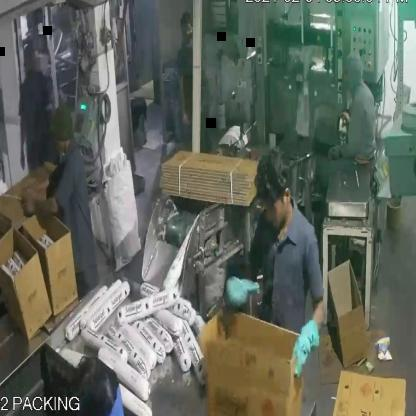glove: (292, 304, 317, 390), (224, 270, 253, 320)
no_glove: (12, 180, 70, 229), (0, 317, 14, 379), (322, 138, 355, 163)
